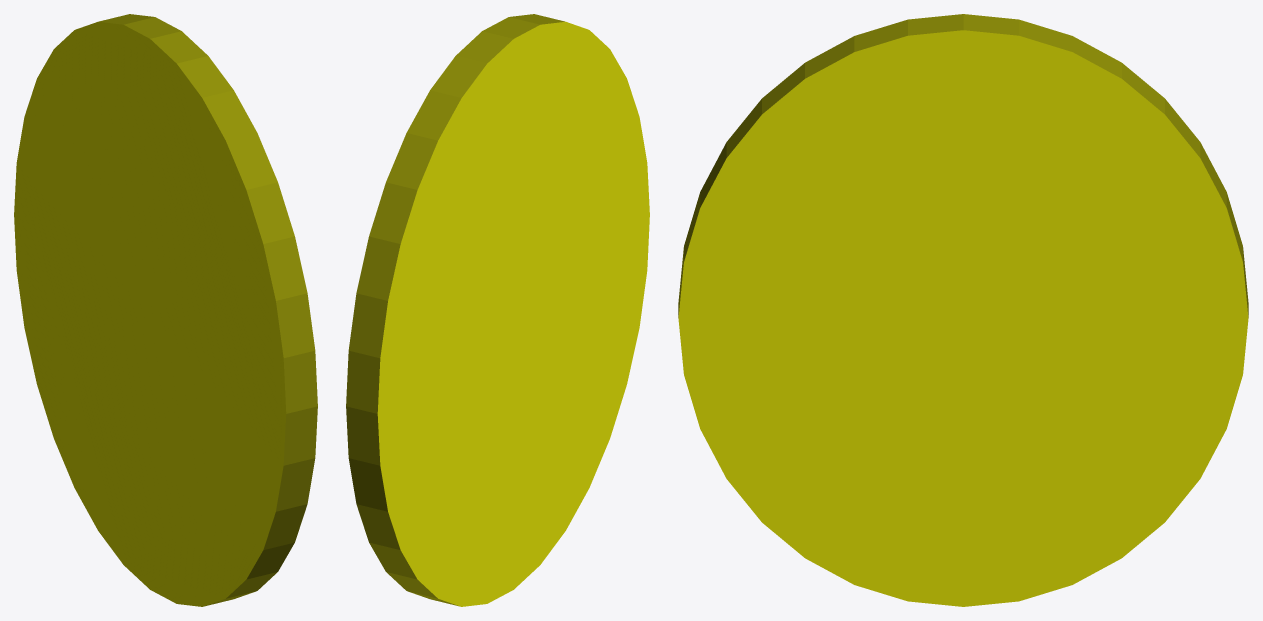
File: coin.glb
3 renders of one model, left to right at view 1: azimuth 30°, elevation 25°; view 2: azimuth 150°, elevation 25°; view 3: azimuth 270°, elevation 25°, orthographic. The views are drawn at different scales.
Parts seen in each view (by area): view 1: Cylinder; view 2: Cylinder; view 3: Cylinder.
Part boxes in pixels (box(x1,y1,x2,y2)): Cylinder: box(14, 14, 317, 606); Cylinder: box(346, 14, 649, 606); Cylinder: box(678, 14, 1248, 606).
Size of the model in its own units: 0.1344 by 2.23 by 2.
